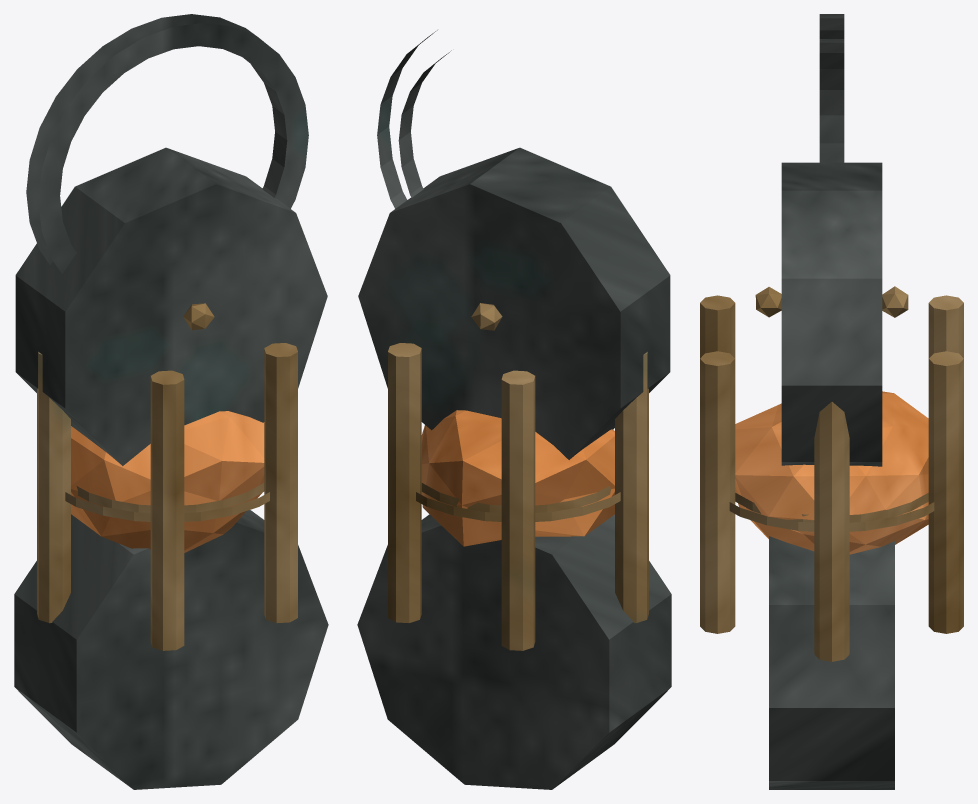
The model's file is 0910_lantern_10.glb.
3 views of the same model, side by side, from view 1: azimuth 30°, elevation 25°; view 2: azimuth 150°, elevation 25°; view 3: azimuth 270°, elevation 25° (orthographic).
Parts seen in each view (by area): view 1: iron, brass, amber; view 2: iron, brass, amber; view 3: iron, brass, amber.
Boxes of the visible parts, <box> form: iron: <box>14,14,328,789</box>; brass: <box>37,303,297,650</box>; amber: <box>71,411,264,552</box>; iron: <box>357,30,671,789</box>; brass: <box>388,303,648,650</box>; amber: <box>421,410,614,546</box>; iron: <box>769,14,894,789</box>; brass: <box>700,286,963,661</box>; amber: <box>735,391,928,554</box>.
Bounding box in the file's own units: 0.5 × 1.32 × 0.4197.
3 materials, 3 textured.
